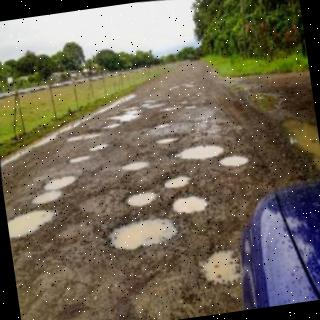pothole: (108, 218, 179, 250), (8, 210, 57, 239), (203, 249, 241, 286), (173, 193, 210, 214), (175, 145, 225, 160), (126, 188, 160, 206), (219, 153, 253, 168), (43, 175, 76, 190), (31, 190, 62, 203), (164, 175, 191, 189), (69, 131, 101, 141), (121, 161, 150, 172), (153, 133, 182, 144), (70, 155, 89, 164), (152, 120, 171, 129), (89, 143, 110, 151), (101, 122, 122, 130)
